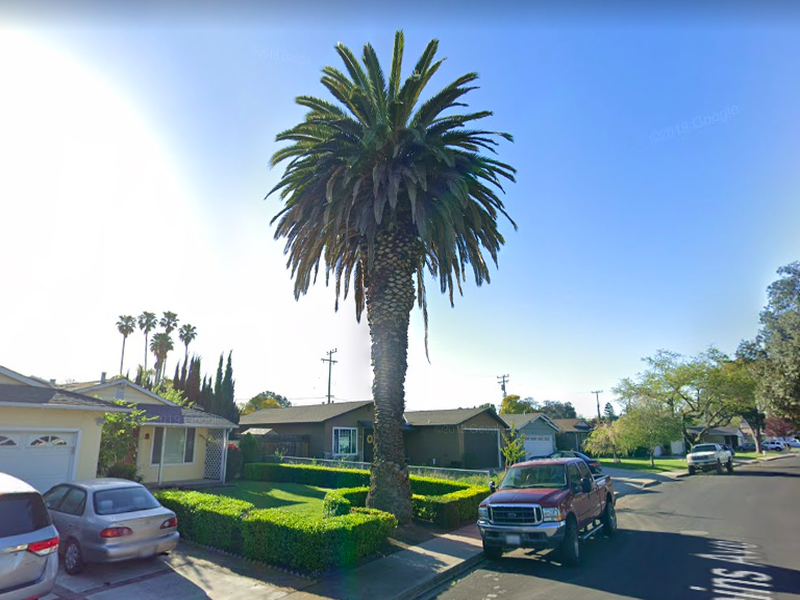tree: (262, 28, 519, 528)
